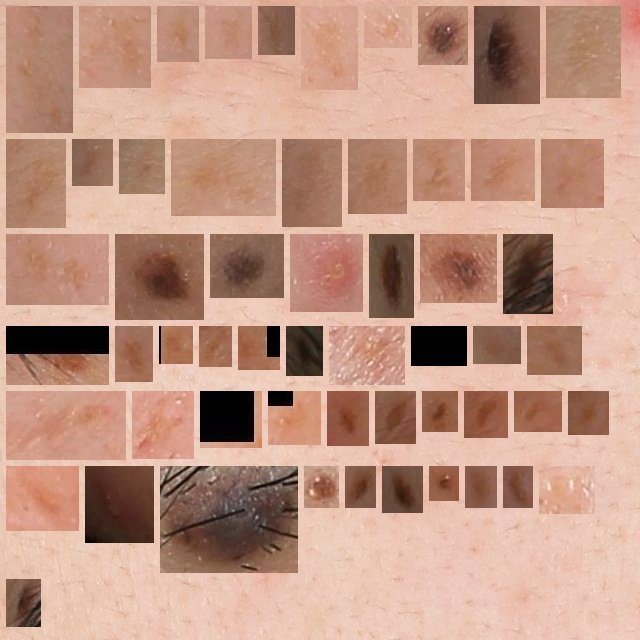melasma: (14, 14, 65, 125), (14, 399, 118, 452), (179, 147, 268, 208), (14, 242, 101, 297), (554, 14, 613, 90), (14, 334, 101, 377), (87, 14, 143, 80), (14, 147, 58, 220), (290, 147, 334, 219), (14, 474, 71, 523), (309, 14, 350, 82), (337, 334, 397, 377), (356, 147, 399, 206), (549, 147, 596, 200), (140, 399, 186, 451), (479, 147, 527, 193), (208, 399, 254, 440), (421, 147, 457, 193), (276, 399, 313, 437), (535, 334, 574, 367), (127, 147, 157, 186), (213, 14, 244, 51), (165, 14, 191, 54), (419, 334, 459, 358), (383, 399, 408, 436), (123, 334, 145, 374), (472, 399, 500, 430), (372, 14, 404, 40), (522, 399, 554, 424), (80, 147, 105, 178), (246, 334, 272, 362), (481, 334, 513, 356), (576, 399, 601, 427), (266, 14, 287, 47), (207, 334, 224, 359), (167, 334, 185, 356)
nevus: (168, 474, 290, 565), (123, 242, 196, 312), (482, 14, 532, 96), (428, 242, 489, 295), (218, 242, 276, 290), (511, 242, 545, 306), (377, 242, 406, 310), (426, 14, 460, 57), (335, 399, 361, 438), (390, 474, 415, 505), (294, 334, 315, 368), (14, 587, 33, 619), (312, 474, 331, 500), (473, 474, 489, 500), (353, 474, 368, 500), (511, 474, 525, 500), (437, 474, 451, 493)
pustule: (298, 242, 355, 304), (93, 474, 146, 535), (547, 474, 587, 506)
